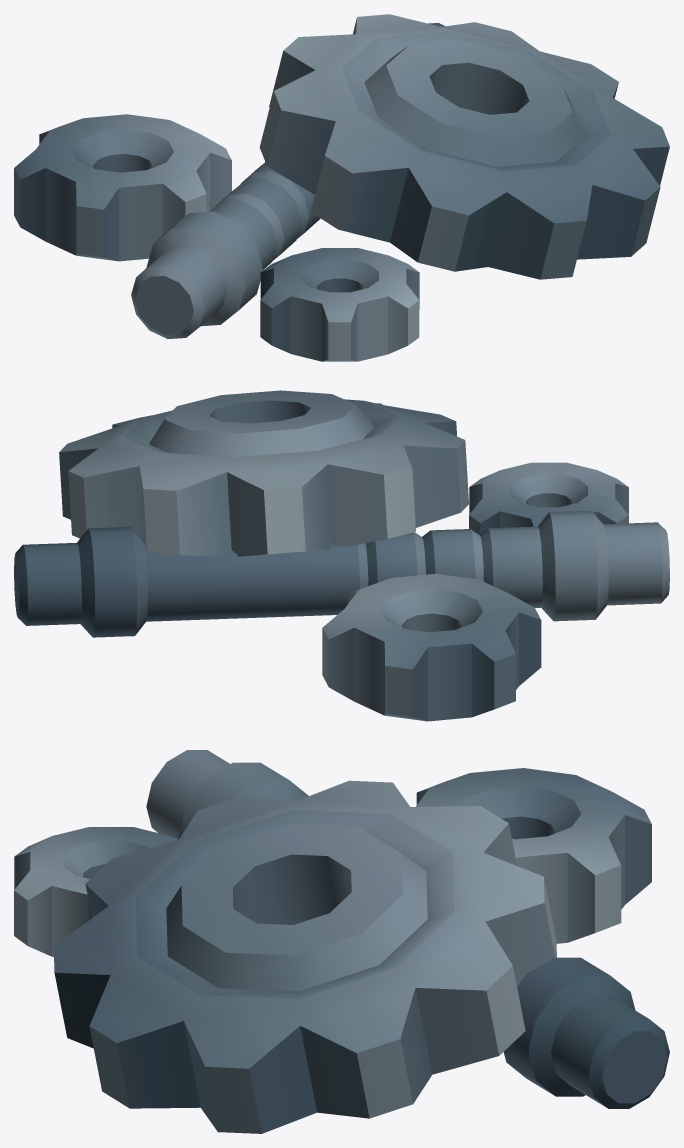
File: parts-pile-small.glb
The picture shows the model from 3 angles, top to bottom: view 1: azimuth 30°, elevation 25°; view 2: azimuth 150°, elevation 25°; view 3: azimuth 270°, elevation 25°; orthographic projection. The views are drawn at different scales.
Visible parts, largest first — view 1: Parts_Pile_Small; view 2: Parts_Pile_Small; view 3: Parts_Pile_Small.
Part boxes in pixels (x1=…): Parts_Pile_Small: x1=14, y1=14, x2=669, y2=361; Parts_Pile_Small: x1=14, y1=390, x2=669, y2=721; Parts_Pile_Small: x1=14, y1=750, x2=669, y2=1133.
Bounding box in the file's own units: 1.16 × 0.3344 × 0.9909.
Materials: 1 (1 with a texture image).
